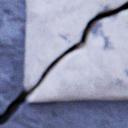broken_brick: (23, 0, 126, 90), (26, 10, 127, 101)
crack: (0, 0, 127, 126)
